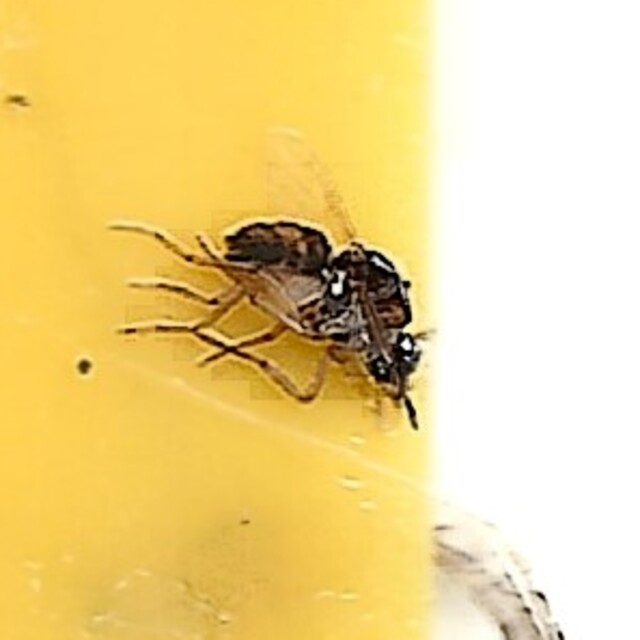Brachycera: (215, 216, 425, 424)
